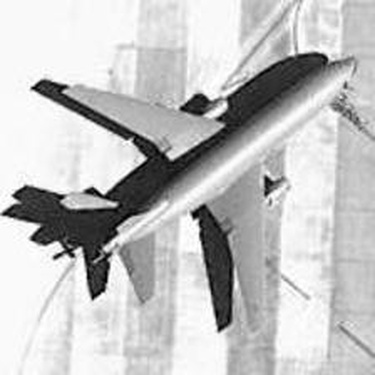airplane: (27, 36, 362, 352)
